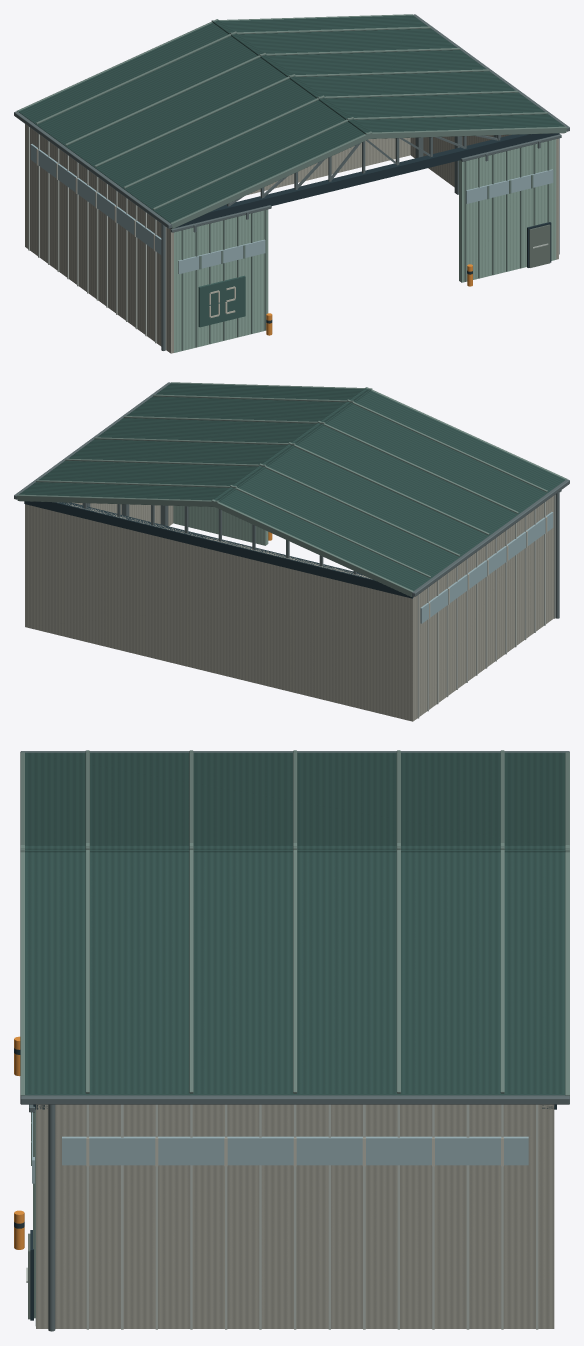
The model's file is airport-aircraft-hangar.glb.
3 renders of one model, top to bottom at view 1: azimuth 30°, elevation 25°; view 2: azimuth 150°, elevation 25°; view 3: azimuth 270°, elevation 25°, orthographic. The views are drawn at different scales.
Parts seen in each view (by area): view 1: Pitched roof, Door leaf, Side wall, Roof rib, Portal lintel, Rake flashing, Standing seam, Door corrugation, Rear wall, Door glazing, Side clerestory, Bay number panel (+7 smaller); view 2: Pitched roof, Rear wall, Side wall, Roof rib, Portal lintel, Standing seam, Rake flashing, Side clerestory, Door leaf, Rain gutter, Gable truss vertical, Drain pipe; view 3: Pitched roof, Side wall, Side clerestory, Standing seam, Roof rib, Rain gutter, Rake flashing, Drain pipe, Rear wall, Window divider.
Boxes of the visible parts, x1=… form: Pitched roof: x1=18, y1=15, x2=564, y2=222; Door leaf: x1=174, y1=139, x2=556, y2=352; Side wall: x1=25, y1=124, x2=558, y2=353; Roof rib: x1=36, y1=26, x2=547, y2=209; Portal lintel: x1=170, y1=133, x2=559, y2=228; Rake flashing: x1=17, y1=14, x2=566, y2=228; Standing seam: x1=28, y1=126, x2=166, y2=350; Door corrugation: x1=181, y1=141, x2=549, y2=350; Rear wall: x1=25, y1=124, x2=410, y2=248; Door glazing: x1=178, y1=169, x2=553, y2=273; Side clerestory: x1=30, y1=144, x2=161, y2=254; Bay number panel: x1=198, y1=275, x2=245, y2=327; Pitched roof: x1=19, y1=383, x2=565, y2=590; Rear wall: x1=25, y1=502, x2=415, y2=721; Side wall: x1=25, y1=495, x2=553, y2=721; Roof rib: x1=36, y1=394, x2=547, y2=577; Portal lintel: x1=24, y1=501, x2=413, y2=598; Standing seam: x1=417, y1=494, x2=555, y2=718; Rake flashing: x1=17, y1=382, x2=566, y2=596; Side clerestory: x1=420, y1=512, x2=553, y2=623; Door leaf: x1=173, y1=505, x2=268, y2=545; Rain gutter: x1=14, y1=382, x2=569, y2=596; Gable truss vertical: x1=83, y1=503, x2=356, y2=574; Drain pipe: x1=555, y1=491, x2=559, y2=618; Pitched roof: x1=25, y1=752, x2=565, y2=1095; Side wall: x1=36, y1=1104, x2=554, y2=1328; Side clerestory: x1=62, y1=1136, x2=528, y2=1165; Standing seam: x1=86, y1=1104, x2=538, y2=1329; Roof rib: x1=85, y1=750, x2=504, y2=1093; Rain gutter: x1=20, y1=751, x2=569, y2=1104; Rake flashing: x1=20, y1=752, x2=569, y2=1095; Drain pipe: x1=48, y1=1104, x2=55, y2=1331; Rear wall: x1=544, y1=1104, x2=554, y2=1328; Window divider: x1=86, y1=1137, x2=503, y2=1166.
Size of the model in its own units: 23.81 by 10.08 by 16.08.
14 materials, 3 textured.
